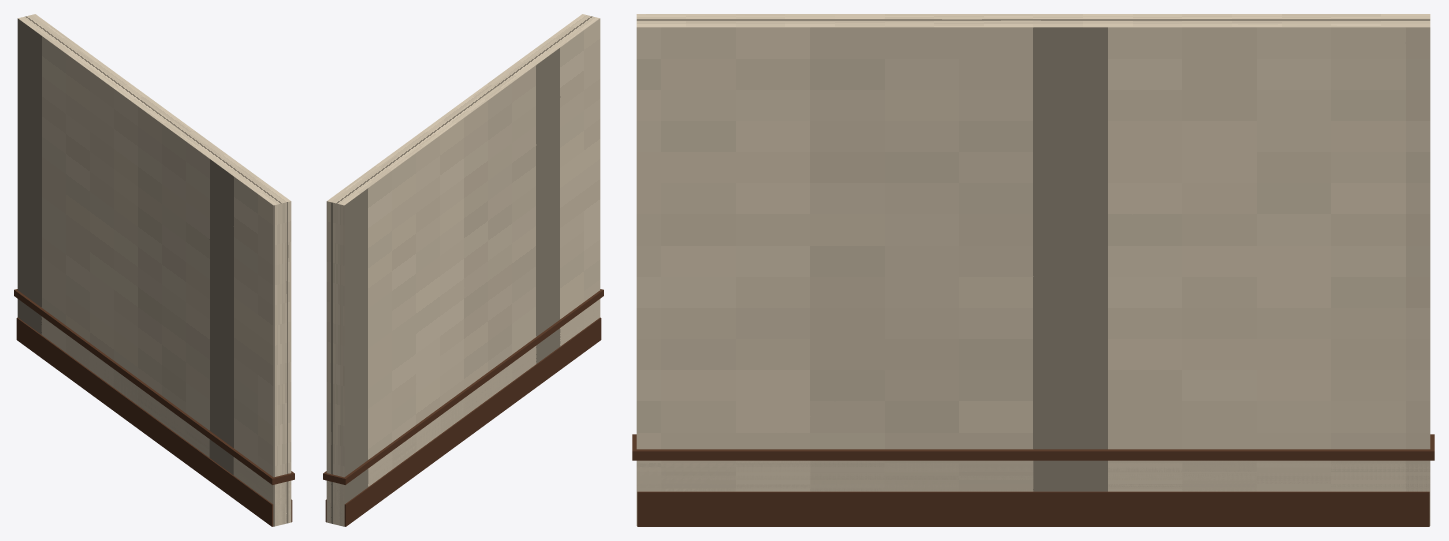
File: back1.glb
The picture shows the model from 3 angles, left to right: view 1: azimuth 30°, elevation 25°; view 2: azimuth 150°, elevation 25°; view 3: azimuth 270°, elevation 25°; orthographic projection. The views are drawn at different scales.
Parts seen in each view (by area): view 1: Box1, Box2, Box3, Box4; view 2: Box1, Box2, Box4, Box3; view 3: Box1, Box2, Box3, Box4.
Boxes of the visible parts, x1,y1,x2,y2 form: Box1: (17,14,291,526); Box2: (16,317,292,526); Box3: (19,302,291,526); Box4: (14,289,294,484); Box1: (326,14,600,526); Box2: (325,317,601,526); Box4: (323,289,603,484); Box3: (326,304,598,526); Box1: (636,14,1430,525); Box2: (637,491,1429,526); Box3: (636,460,1430,524); Box4: (632,434,1434,460).
Bounding box in the file's own units: 0.19 × 2.6 × 3.79.
2 materials, 1 textured.
